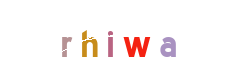A: (113, 0, 193, 80)
H: (59, 0, 139, 80)
I: (82, 0, 162, 80)
R: (48, 0, 128, 80)
W: (96, 0, 176, 80)
